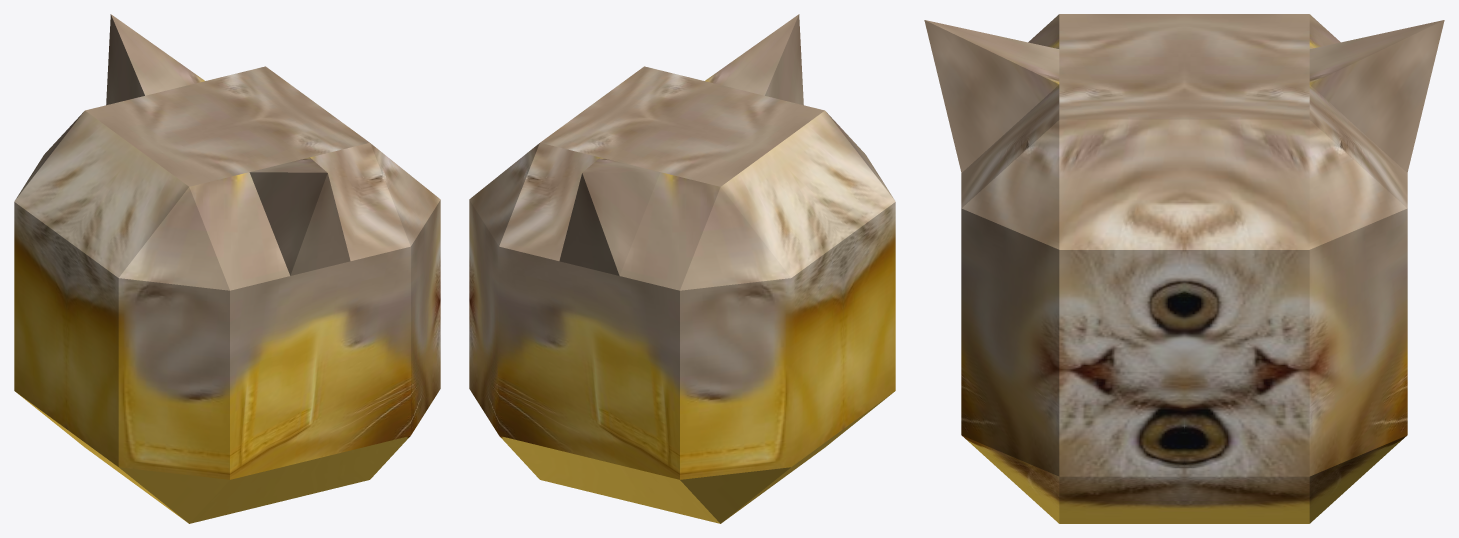
Rendered from kitty_head.obj.
3 views of the same model, side by side, from view 1: azimuth 30°, elevation 25°; view 2: azimuth 150°, elevation 25°; view 3: azimuth 270°, elevation 25° (orthographic). The views are drawn at different scales.
Visible parts, largest first — view 1: Head; view 2: Head; view 3: Head.
Boxes of the visible parts, x1,y1,x2,y2 form: Head: [14, 14, 440, 523]; Head: [469, 14, 895, 523]; Head: [924, 14, 1444, 523].
Bounding box in the file's own units: 0.723 × 0.7985 × 0.8436.
